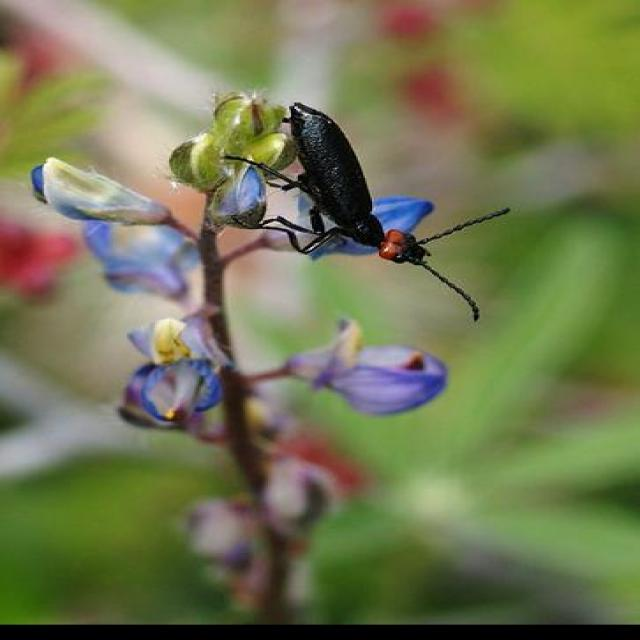BlisterBeetle-Adult-: (233, 94, 506, 325)
